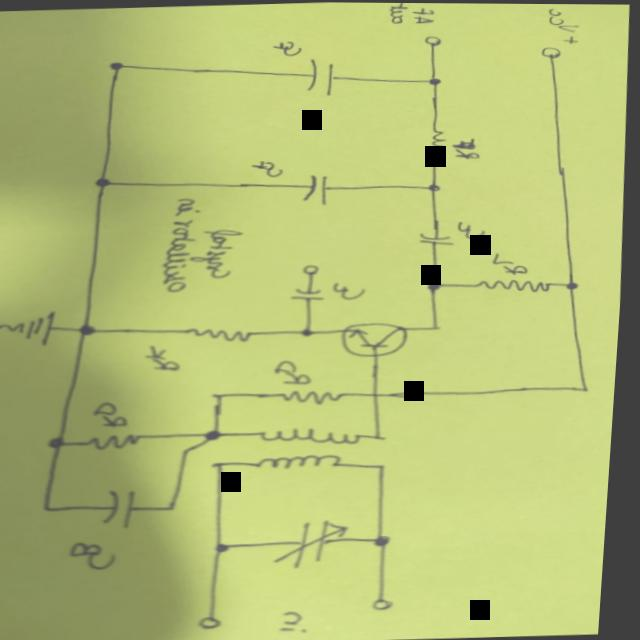capacitor: (281, 521, 357, 566), (306, 58, 341, 98), (108, 490, 145, 527), (304, 174, 335, 205), (421, 232, 455, 247), (295, 287, 329, 301)
ground: (0, 311, 64, 347)
junction: (49, 433, 77, 450), (375, 533, 401, 550), (207, 427, 231, 443), (79, 323, 104, 338), (218, 540, 240, 555), (424, 72, 444, 88), (95, 175, 117, 189), (566, 277, 585, 292), (430, 280, 450, 293), (423, 182, 444, 193), (45, 502, 63, 514), (302, 326, 321, 337), (217, 459, 236, 470), (168, 501, 186, 512), (107, 61, 125, 71), (184, 447, 200, 456), (215, 390, 230, 399), (380, 462, 394, 471), (432, 324, 447, 331), (377, 432, 389, 440), (374, 391, 386, 398), (585, 385, 596, 392)
resistor: (478, 276, 563, 295), (279, 388, 358, 406), (193, 325, 261, 343), (92, 432, 150, 451), (429, 128, 451, 161)
terminal: (378, 595, 403, 611), (206, 613, 231, 629), (540, 45, 563, 60), (303, 263, 326, 278), (421, 35, 444, 50)
text: (161, 195, 251, 294), (73, 538, 127, 572), (276, 358, 319, 386), (147, 343, 188, 372), (96, 400, 137, 427), (387, 2, 435, 25), (493, 250, 534, 275), (546, 6, 582, 33), (286, 609, 319, 634), (451, 137, 483, 160), (335, 281, 371, 301), (251, 159, 287, 178), (459, 219, 490, 239), (271, 40, 303, 57)
transformer: (257, 424, 371, 471)
transistor: (343, 321, 416, 359)
